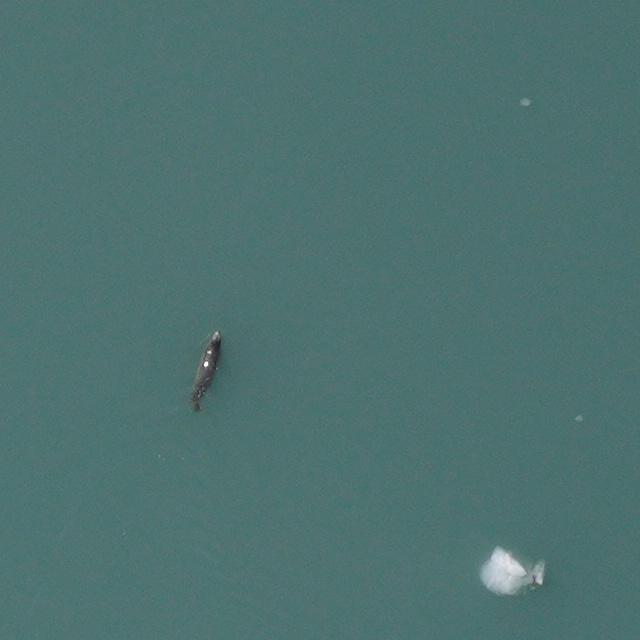seal: (183, 328, 229, 416)
